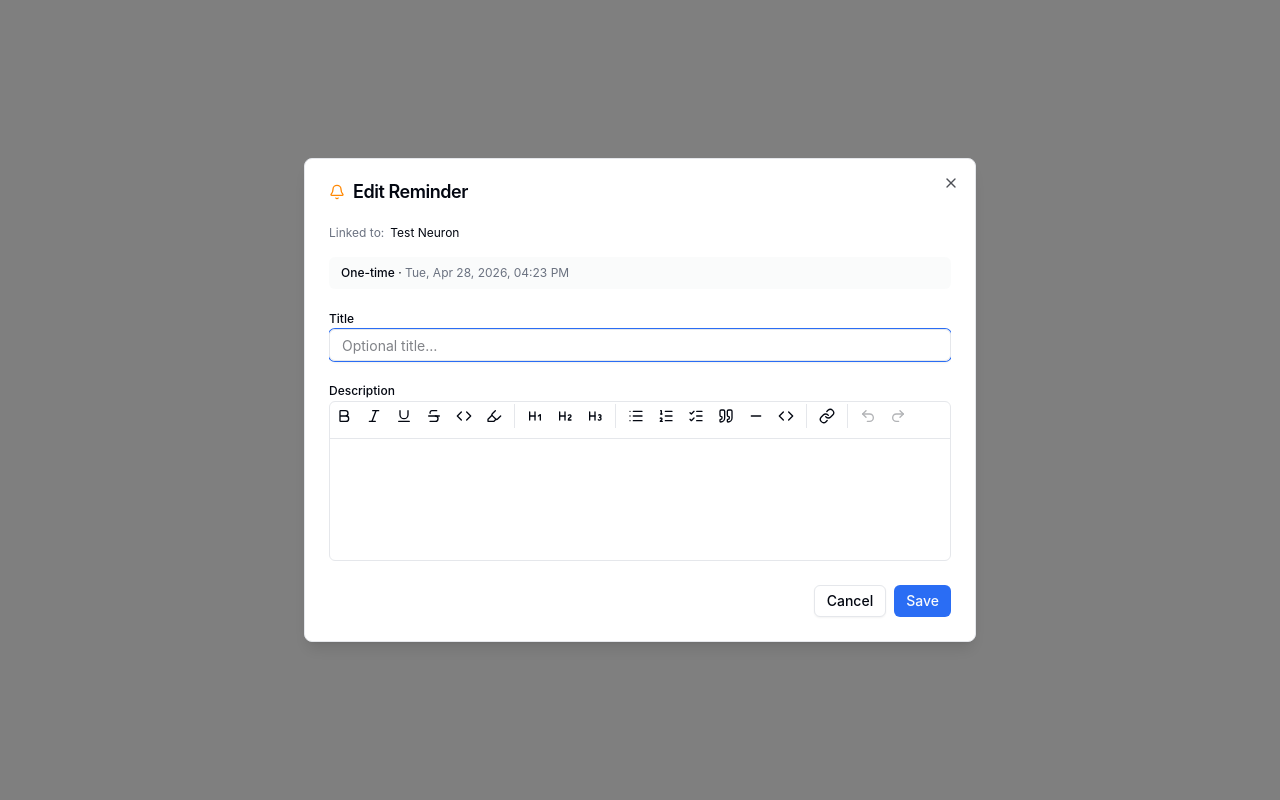
Scenario: ReminderEditDialog › shows error message when save fails
Step 1. Click the button "Save" → click(923, 601), box [894,585,951,617]
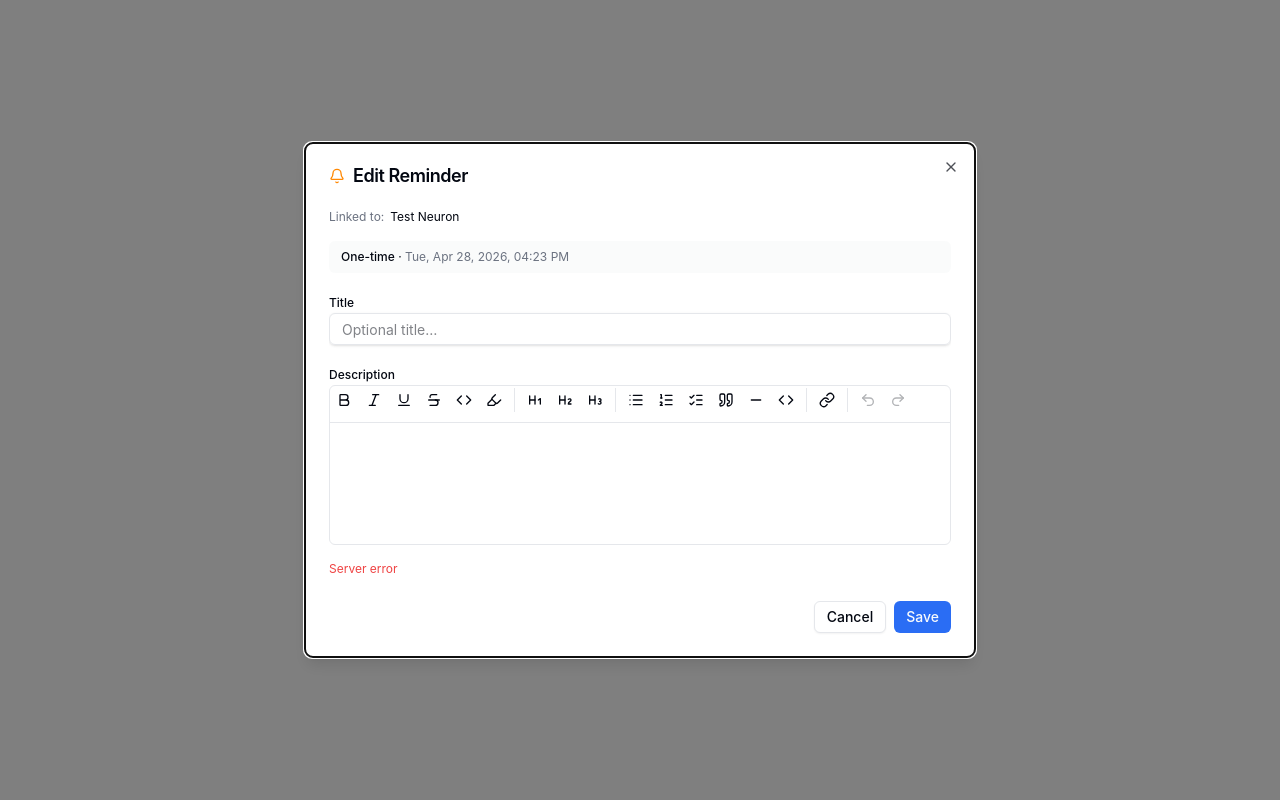
Result: the text "Server error" is shown at [329,561,398,576]
